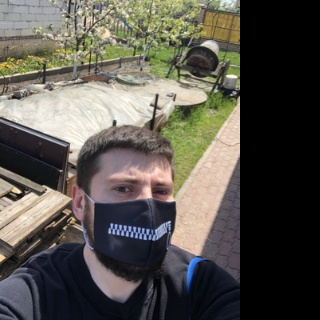with_mask: (92, 165, 177, 283)
